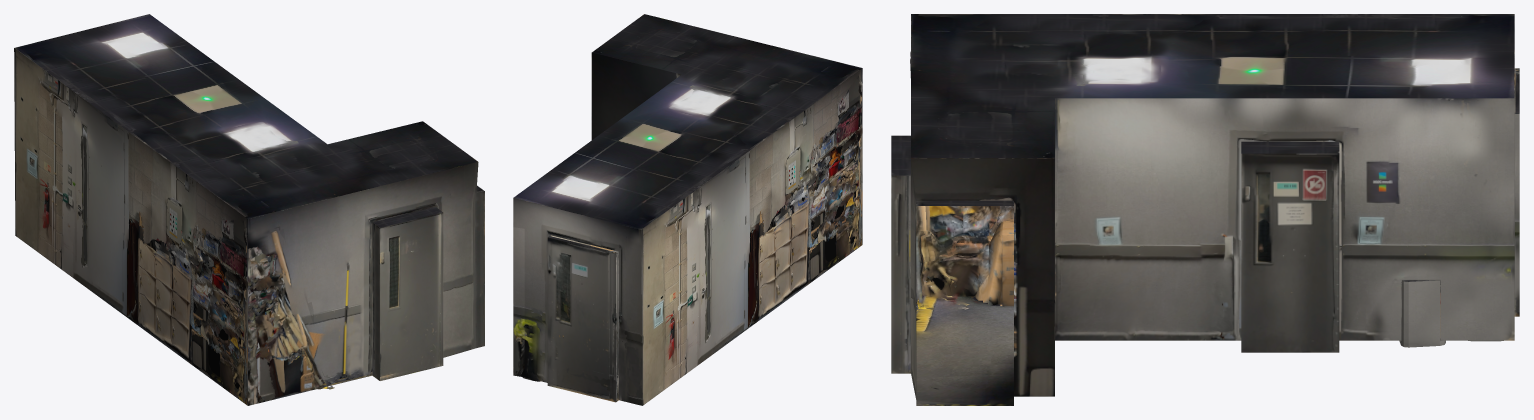
The picture shows the model from 3 angles, left to right: view 1: azimuth 30°, elevation 25°; view 2: azimuth 150°, elevation 25°; view 3: azimuth 270°, elevation 25°; orthographic projection. The views are drawn at different scales.
Parts seen in each view (by area): view 1: 1_m108v2-IM; view 2: 1_m108v2-IM; view 3: 1_m108v2-IM.
Boxes of the visible parts, <box> form: 1_m108v2-IM: <box>14,14,484,405</box>; 1_m108v2-IM: <box>513,14,862,405</box>; 1_m108v2-IM: <box>891,14,1519,405</box>.
Size of the model in its own units: 325 by 249 by 568.
Materials: 1 (1 with a texture image).
